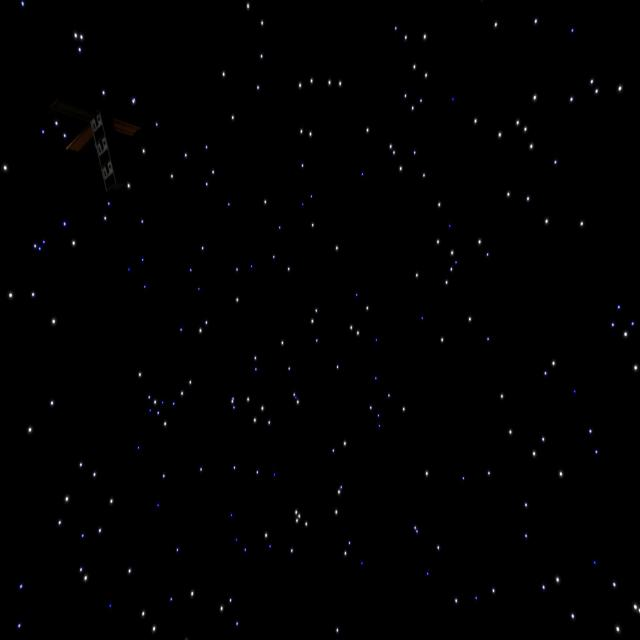satellite: (66, 96, 152, 186)
